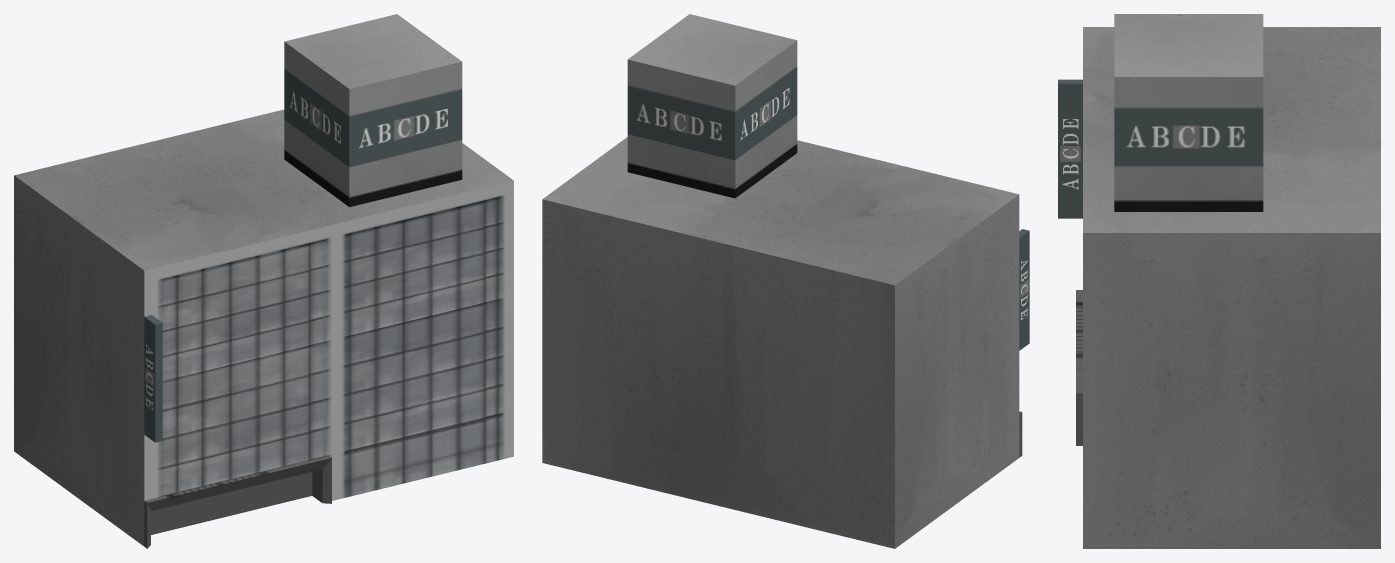
File: BgMD_Building_09_01.fbx
The picture shows the model from 3 angles, left to right: view 1: azimuth 30°, elevation 25°; view 2: azimuth 150°, elevation 25°; view 3: azimuth 270°, elevation 25°; orthographic projection. The views are drawn at different scales.
Parts seen in each view (by area): view 1: pCube116; view 2: pCube116; view 3: pCube116.
Part boxes in pixels (x1,y1,x2,y2): pCube116: (14, 14, 513, 548); pCube116: (542, 14, 1029, 548); pCube116: (1058, 14, 1380, 548).
Bounding box in the file's own units: 3760 × 3833 × 2488.
